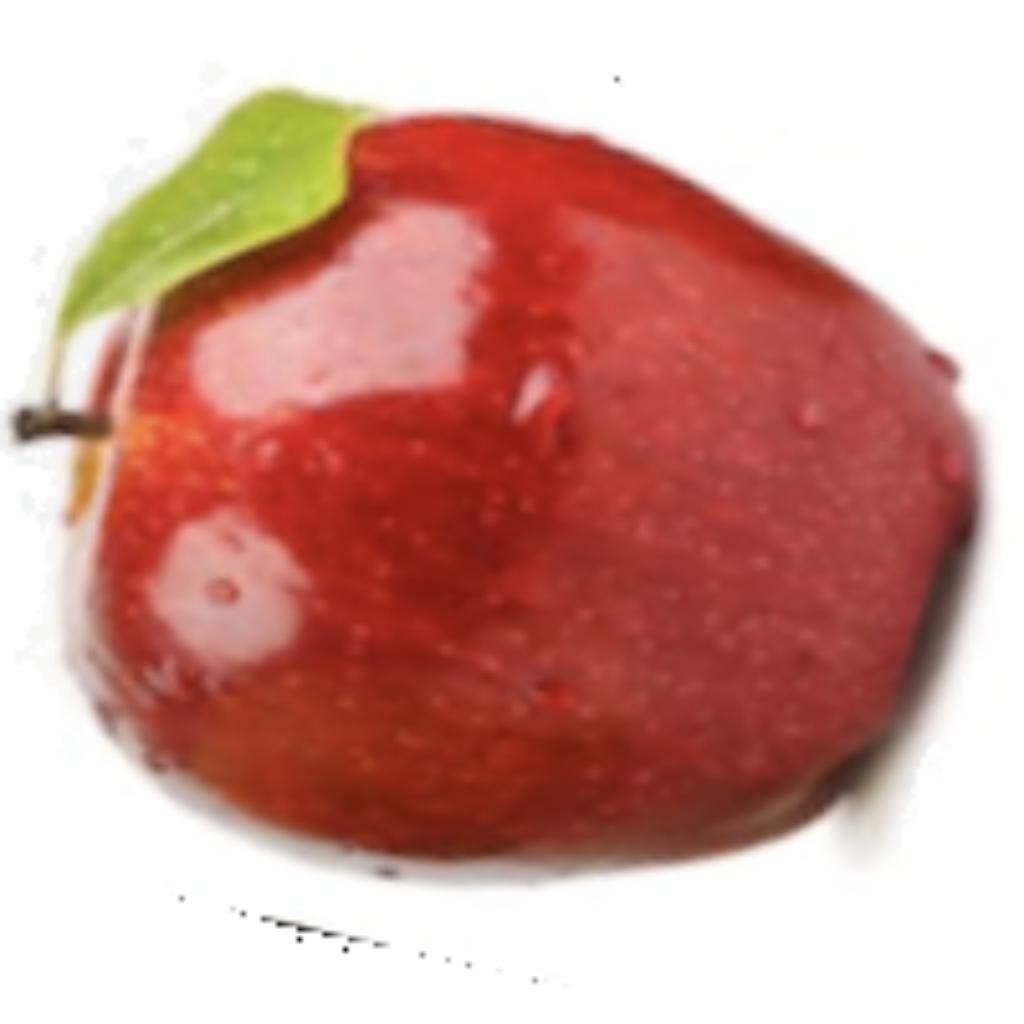apple: (0, 56, 1004, 896)
